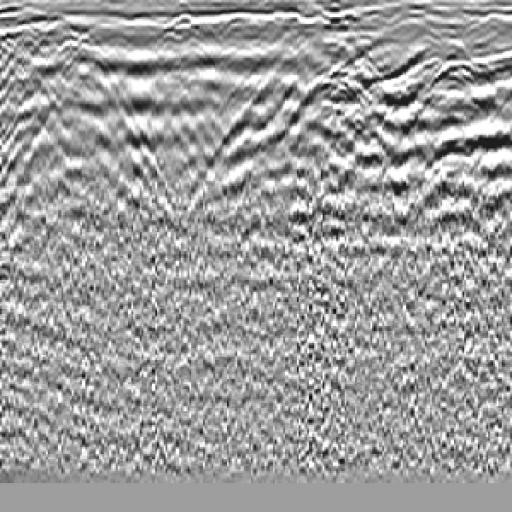non-metallic: (277, 44, 512, 266), (23, 18, 171, 236)
